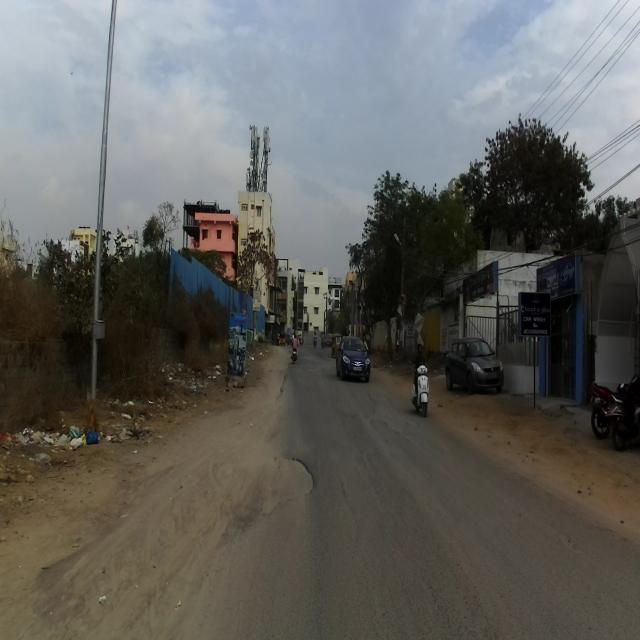car ahead at: (443, 334, 508, 392), (338, 328, 372, 385)
motorcycle ahead at: (409, 344, 434, 414)
